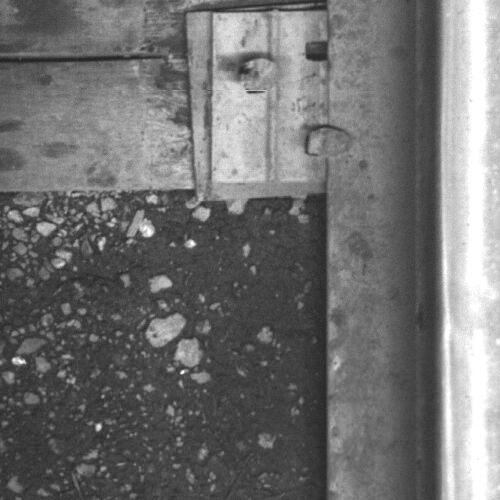do: (209, 9, 349, 180)
hole_do: (295, 31, 344, 72)
rail: (437, 1, 500, 500)
tie_wood: (1, 1, 327, 192)
wood_crack: (1, 46, 171, 71)
